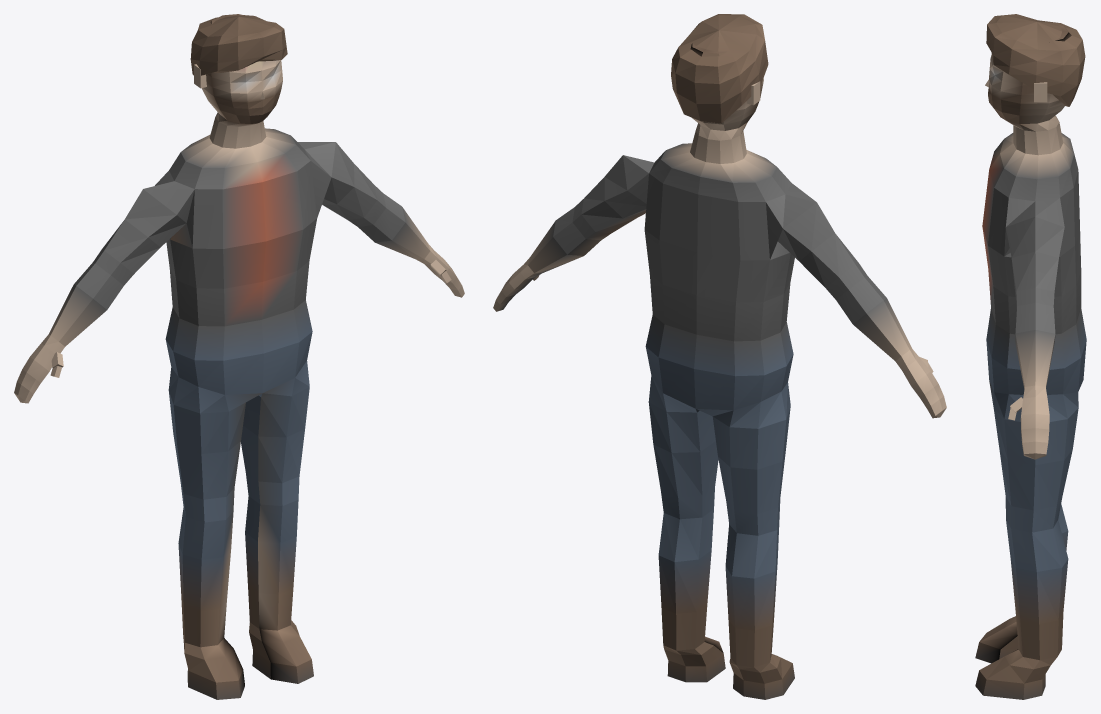
Rendered from char__pessoa__multidao_05.glb.
The picture shows the model from 3 angles, left to right: view 1: azimuth 30°, elevation 25°; view 2: azimuth 150°, elevation 25°; view 3: azimuth 270°, elevation 25°; orthographic projection.
Parts seen in each view (by area): view 1: char__pessoa__multidao_05; view 2: char__pessoa__multidao_05; view 3: char__pessoa__multidao_05.
Part boxes in pixels (bbox=[...]): char__pessoa__multidao_05: bbox=[14, 14, 464, 699]; char__pessoa__multidao_05: bbox=[493, 14, 946, 699]; char__pessoa__multidao_05: bbox=[975, 14, 1086, 699].
Size of the model in its own units: 1.32 by 1.86 by 0.2877.
